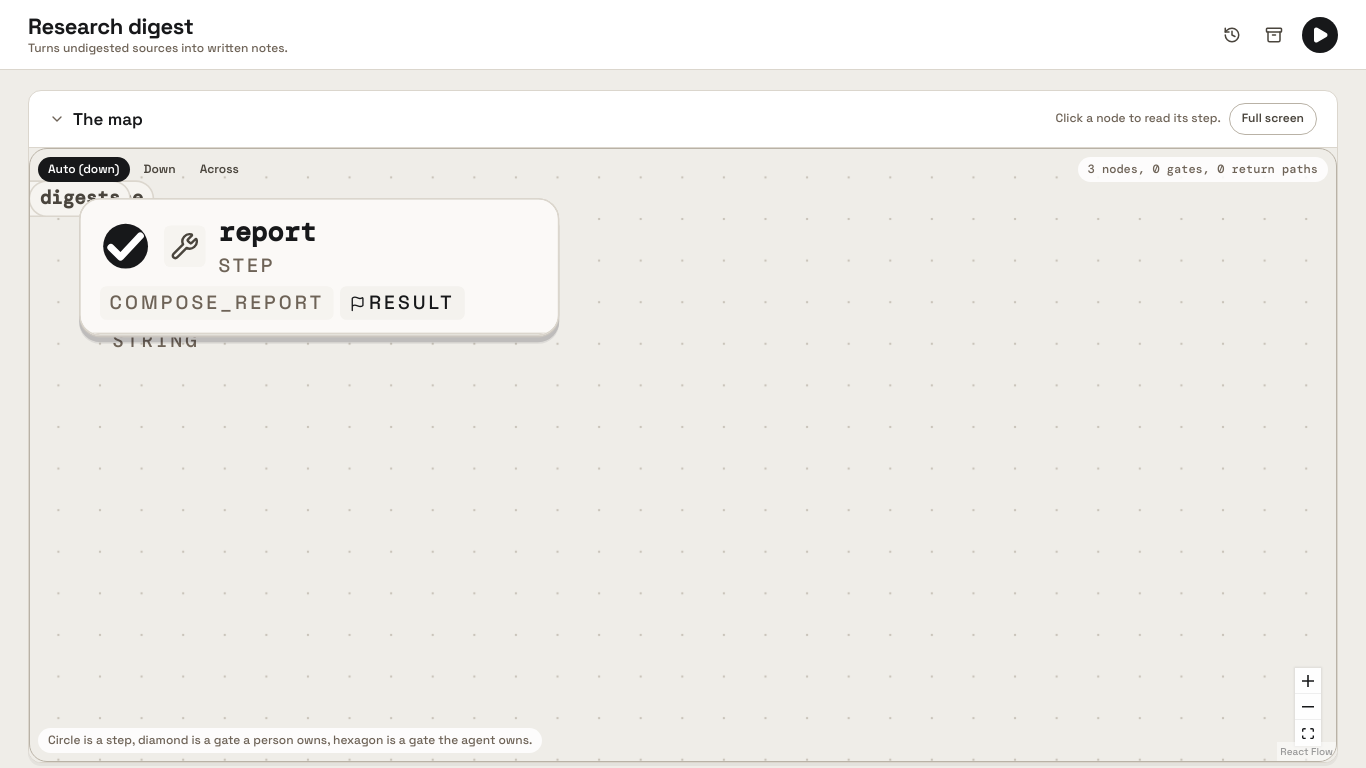
Test case: WorkflowAbout › reads as busy in the setup while the run is starting
Step 1. Click the button named "Run" → (1320, 34), box [1302,16,1338,52]
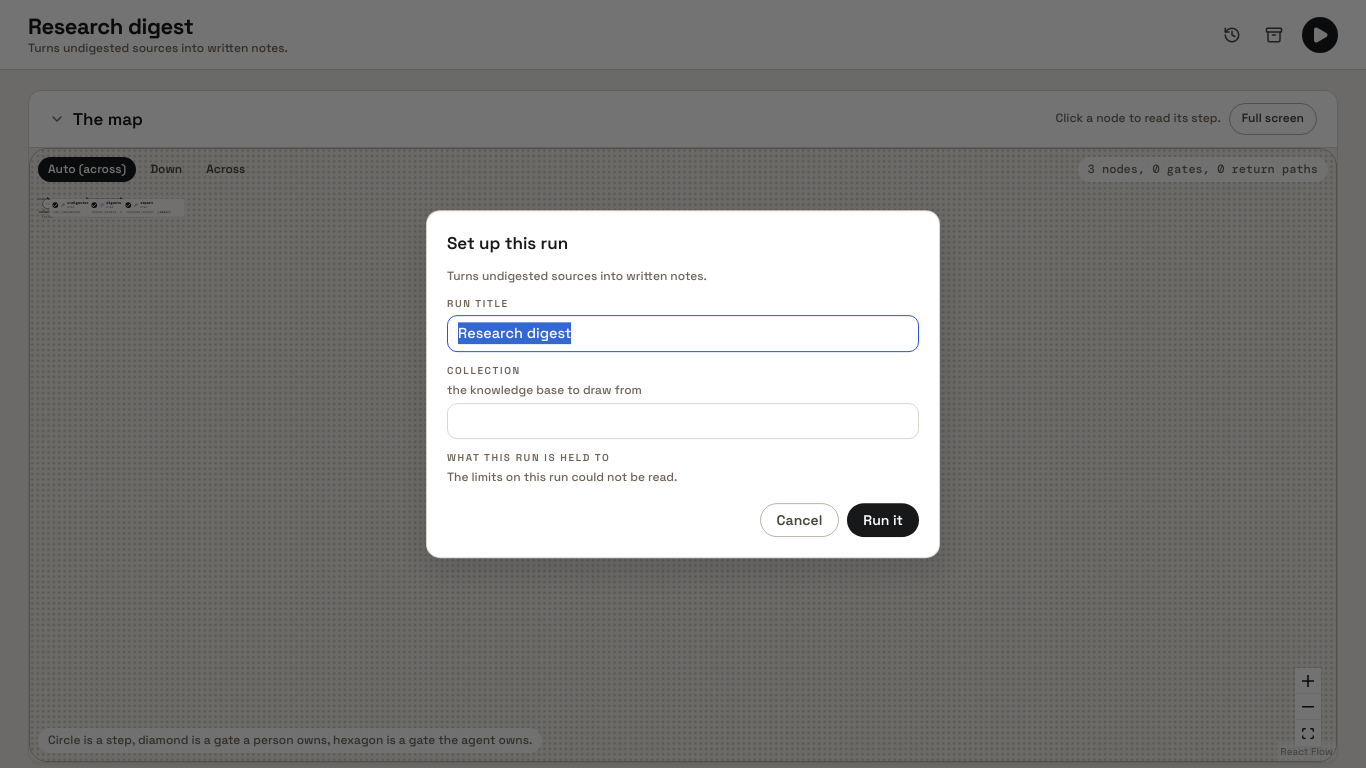
Step 2. Type "research" into the field labelled "collection" → (683, 421), box [447,403,919,440]
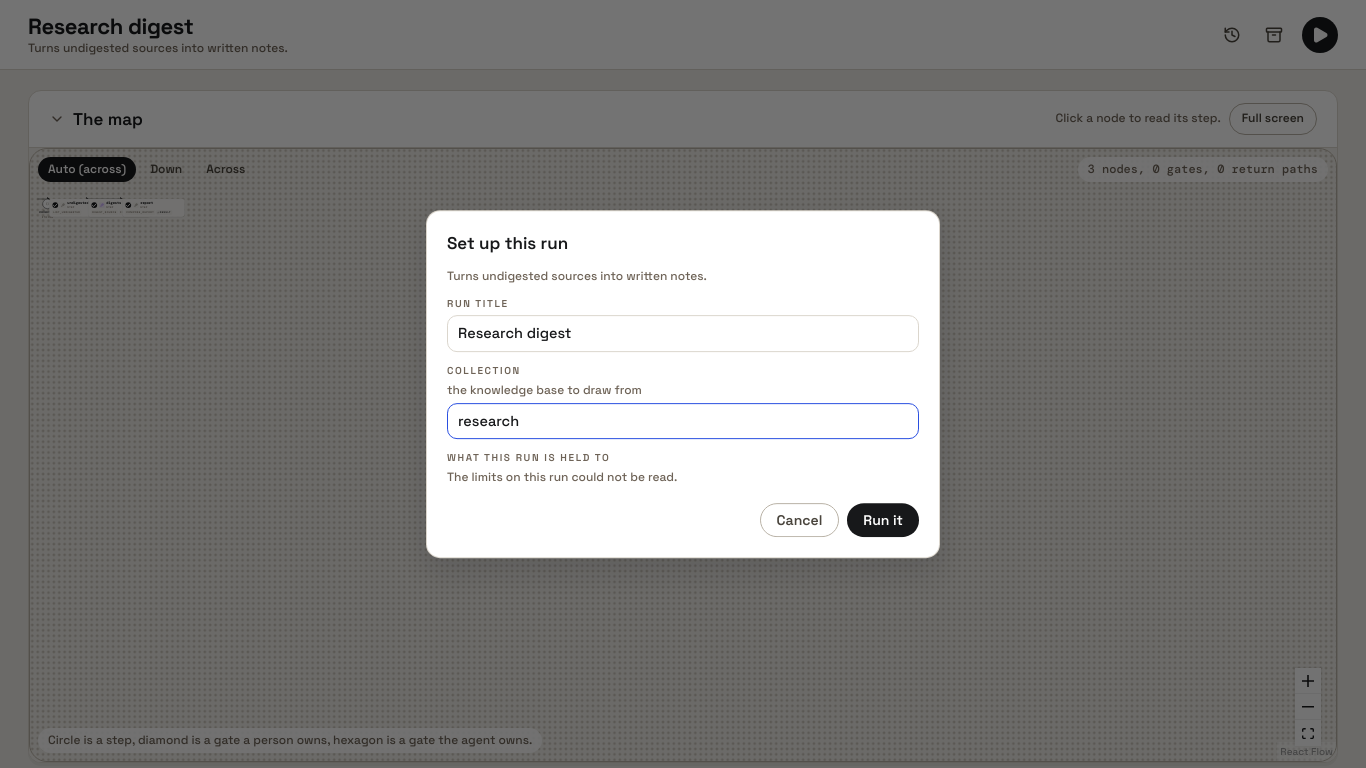
Step 3. Click the button "Run it" → (883, 520), box [847,503,919,537]
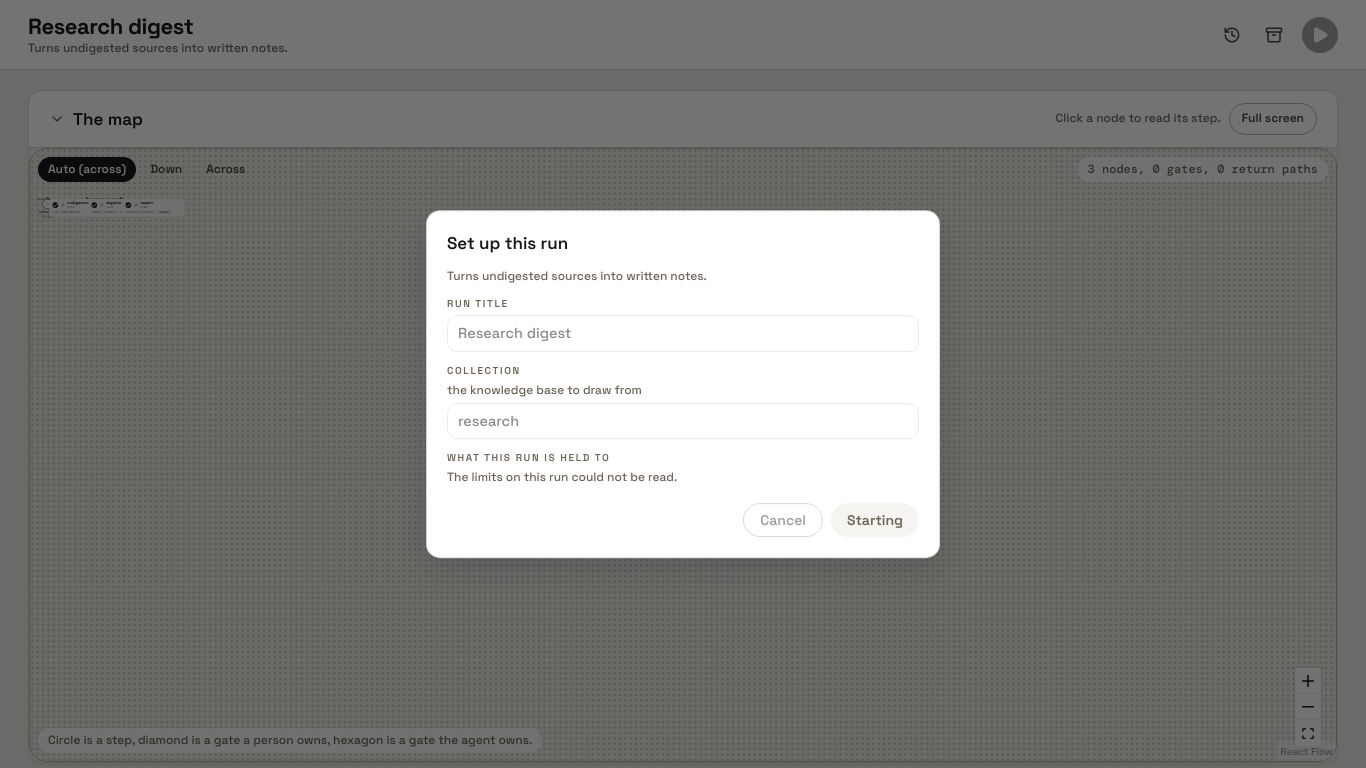
Check: the button "Starting" is disabled, box [831,503,919,537]
